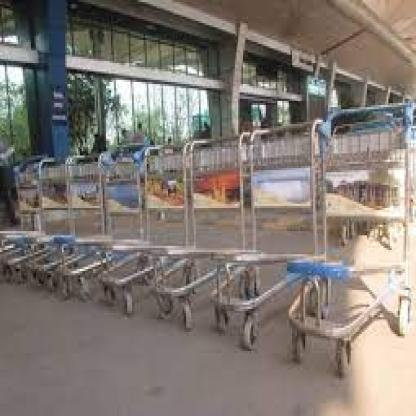airport-trolley: (289, 97, 416, 380), (213, 124, 328, 350), (151, 130, 249, 341), (85, 143, 164, 317), (0, 160, 71, 306), (56, 152, 110, 306)
